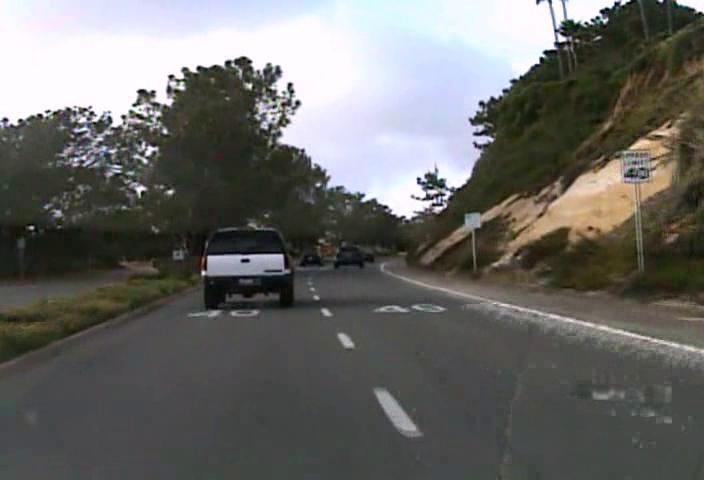speedLimit40: (621, 147, 651, 183)
